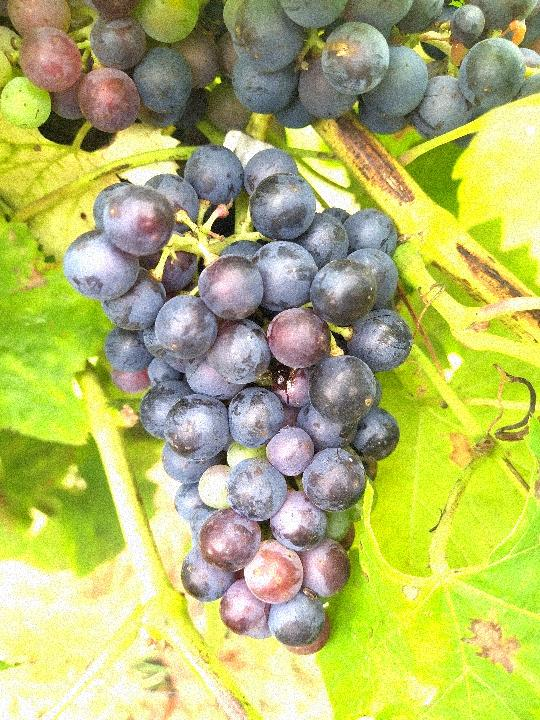grape: (53, 141, 420, 660)
